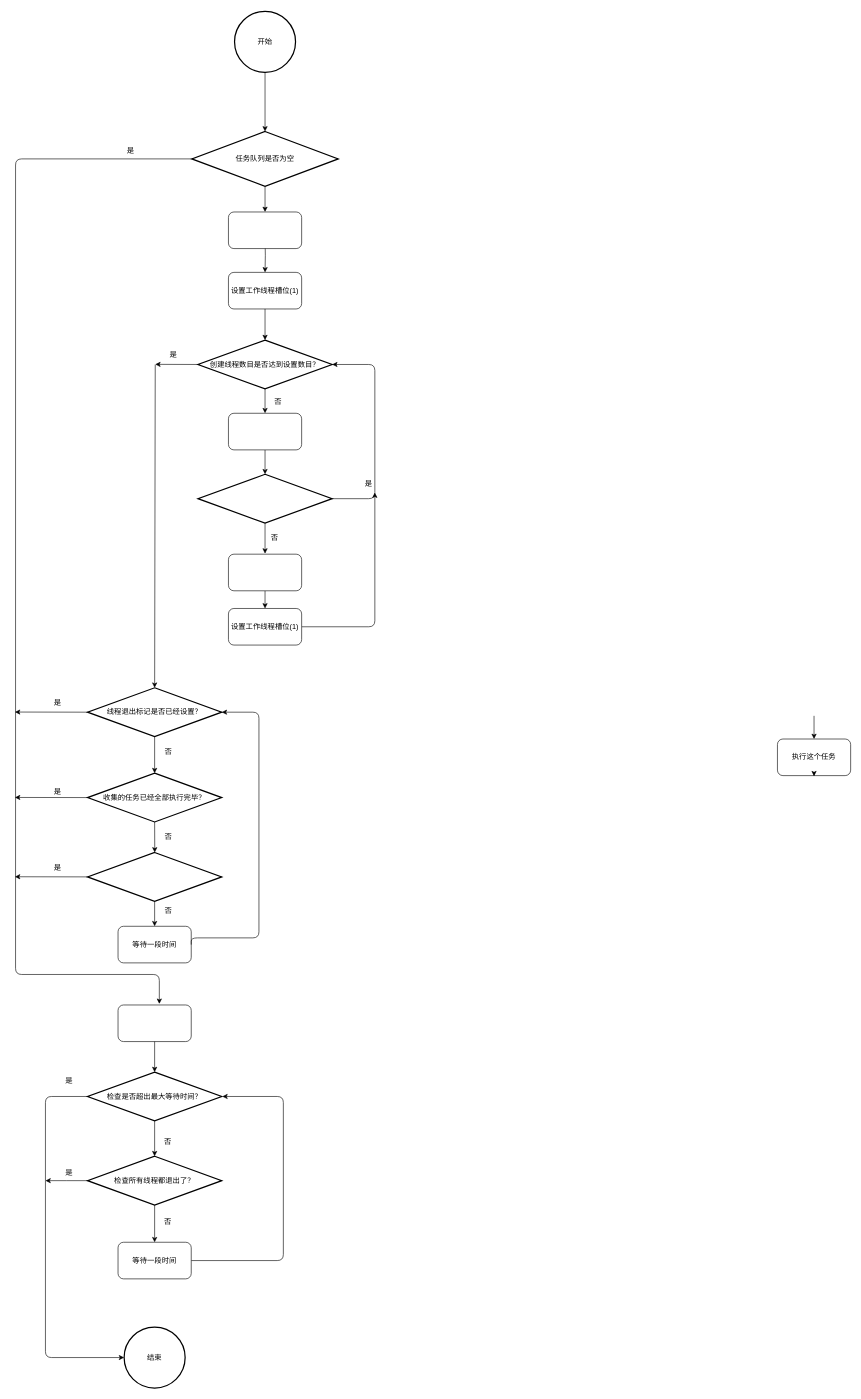
Some shapes in this 861 by 1399 pixel diagram are drawn without their labels. Here are the shapes that lost their labels. From the top down, the centre of each, then its label:
the point at 265,230: 设置工作线程数目
the point at 265,431: 设置工作线程槽位(0)
the point at 264,498: 创建线程是否成功？
the point at 265,572: 加锁设置错误码
the point at 154,877: 加锁查看是否出现错误？
the point at 154,1023: 获取当前时间
